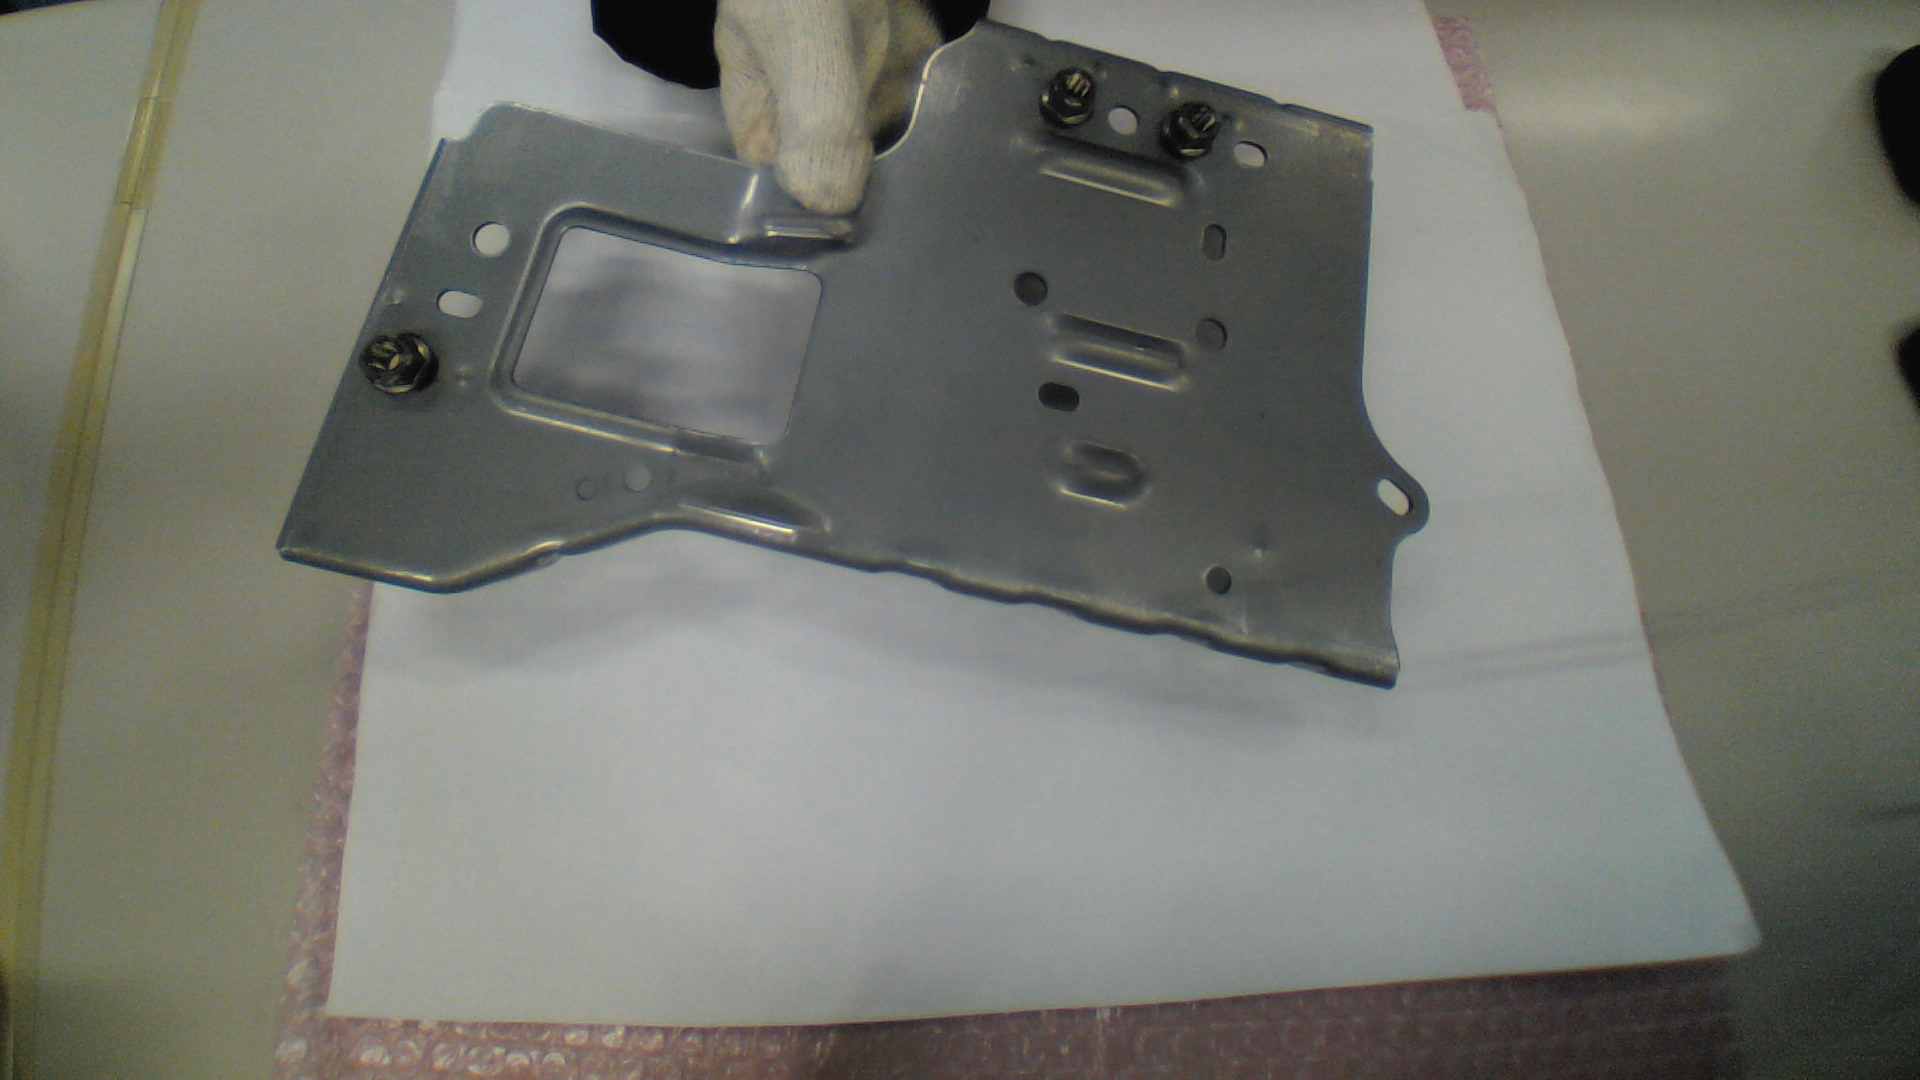dog: (357, 332, 436, 400), (1160, 102, 1221, 161), (1042, 67, 1097, 129)
